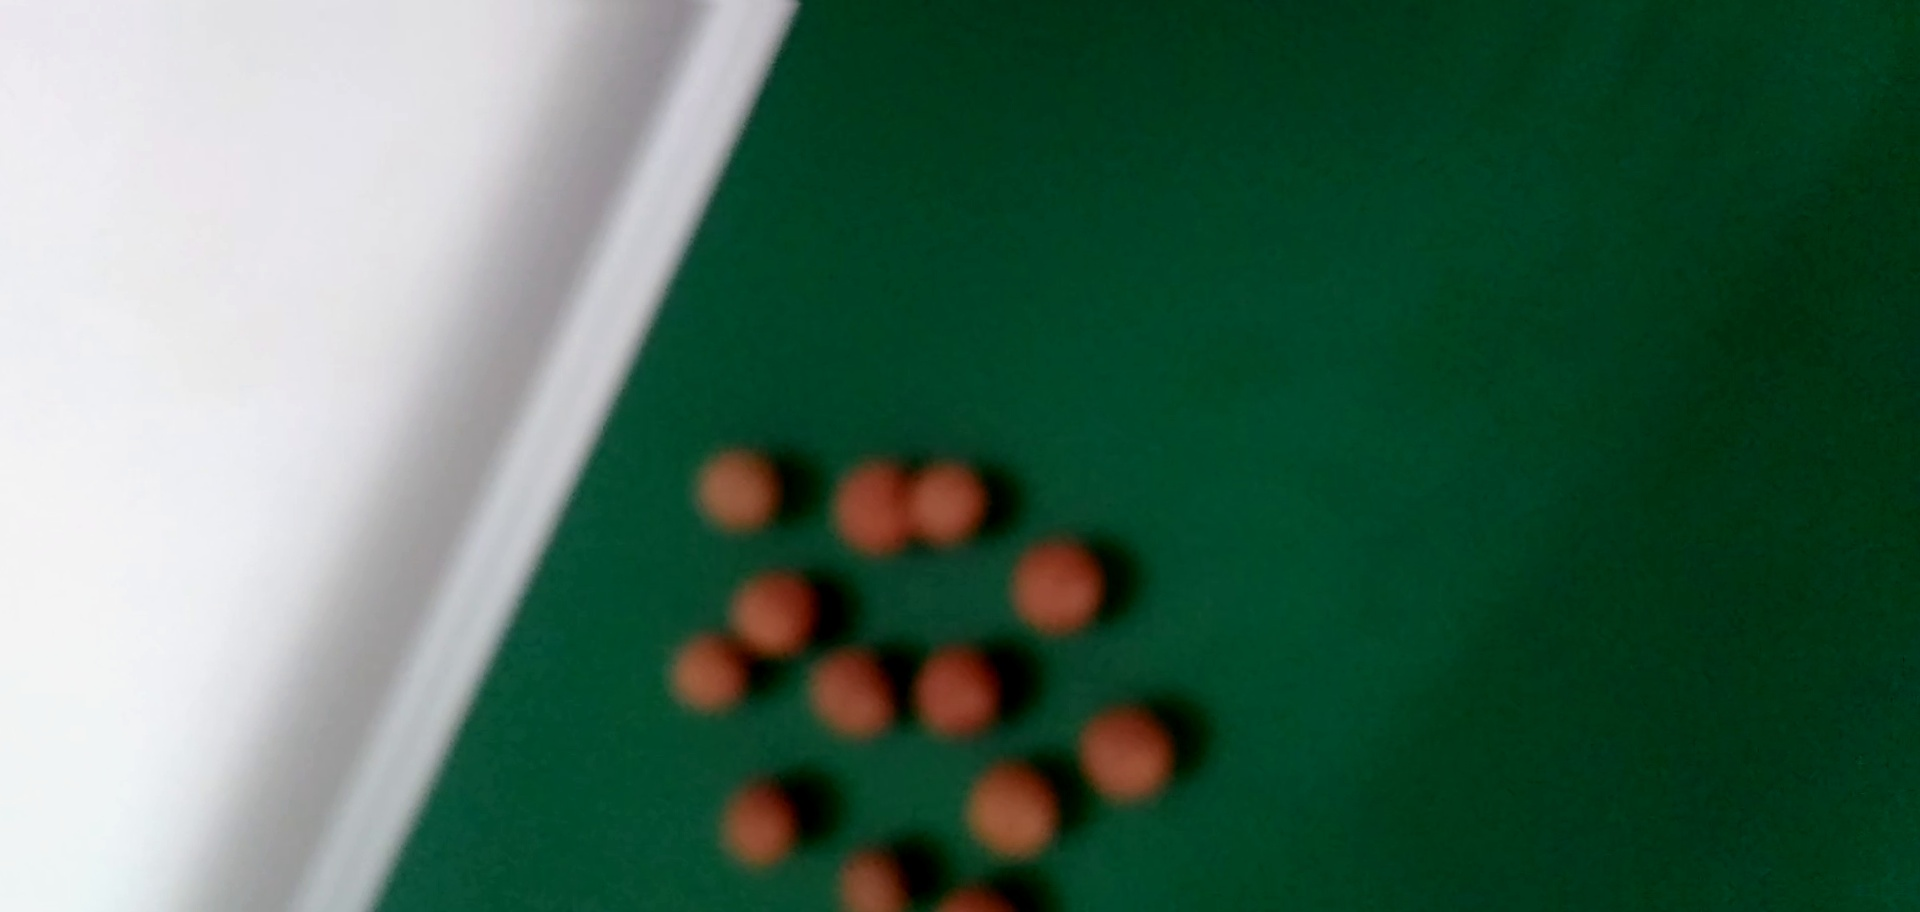mac: (962, 759, 1058, 856), (829, 457, 917, 561), (912, 639, 1000, 742), (1079, 704, 1171, 801), (809, 648, 899, 743), (1015, 540, 1103, 635), (732, 566, 818, 660), (692, 447, 780, 535), (720, 772, 801, 867), (666, 629, 751, 714), (906, 459, 988, 545), (838, 846, 906, 912)
